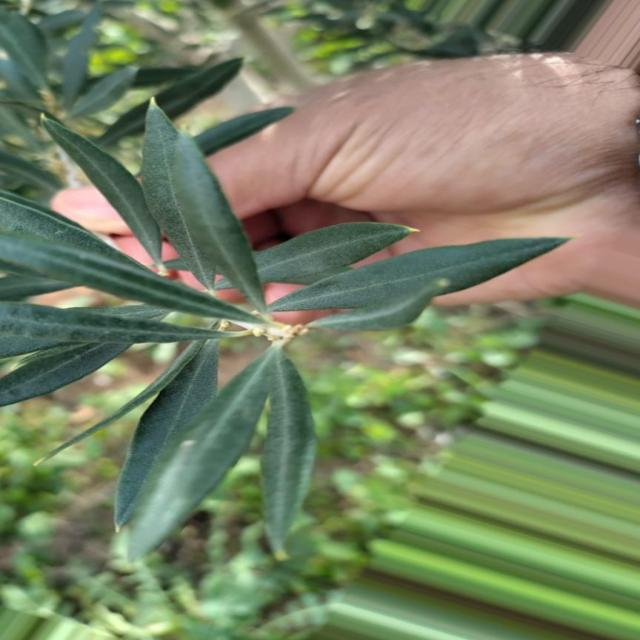OlivePeacockSpot: (0, 302, 209, 343)
